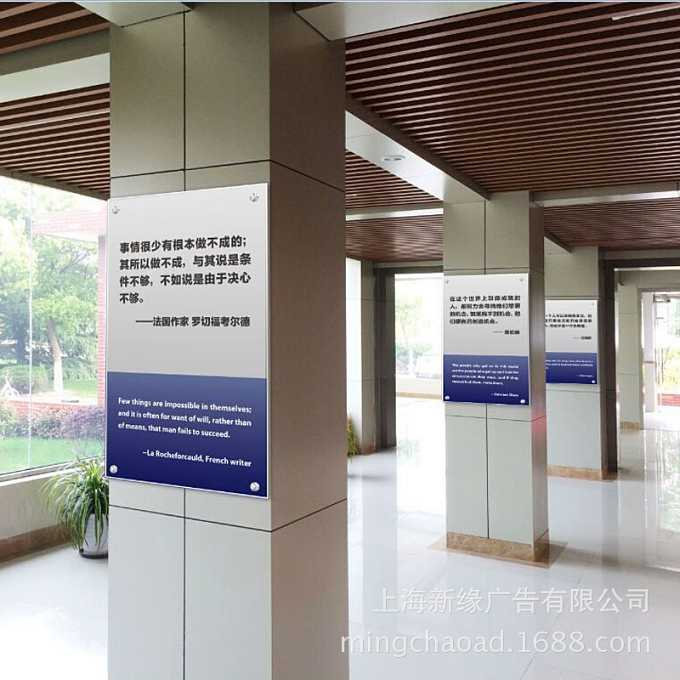bill: (104, 182, 267, 498), (444, 275, 531, 407), (546, 299, 597, 384)
